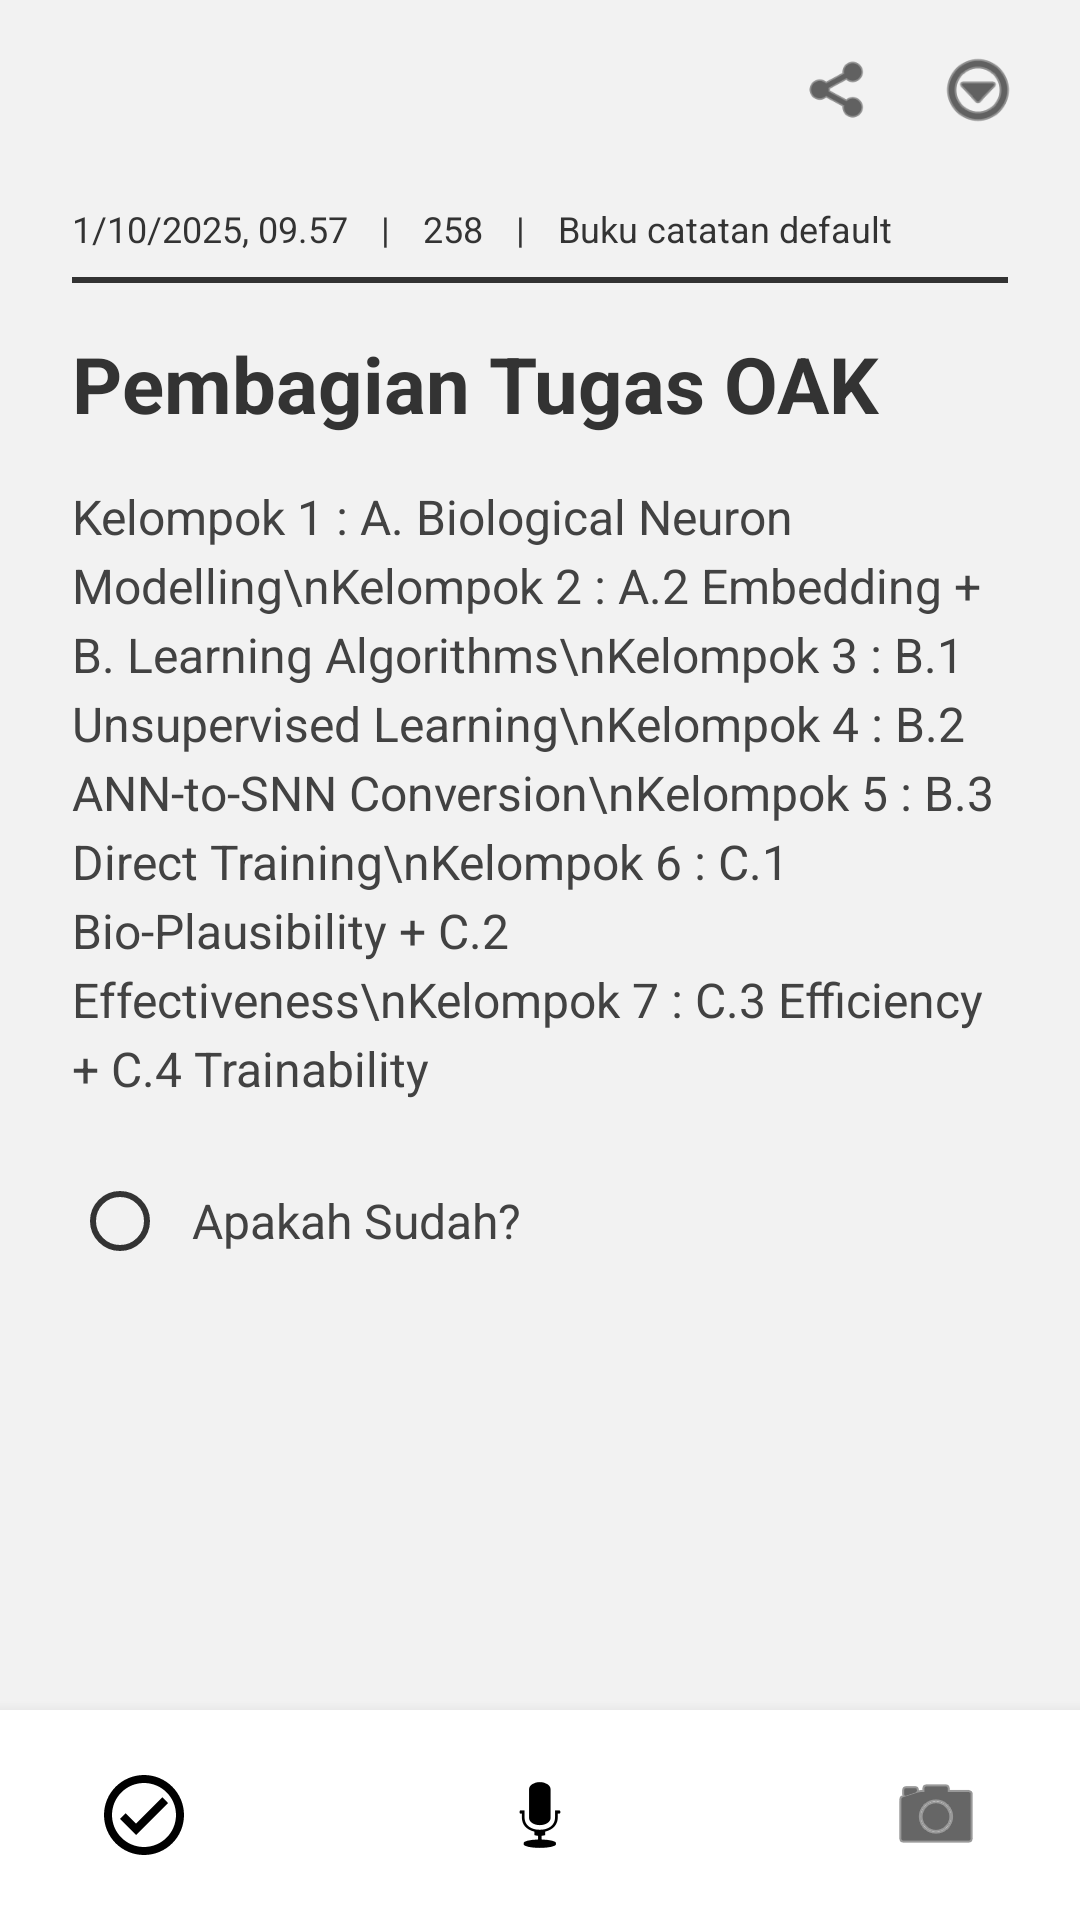

Icons on this 1080w x 1920h Android screen, each with the point to tap as (x=x, y=y):
camera: (x=936, y=1813)
check circle: (x=144, y=1815)
more: (x=978, y=90)
share: (x=836, y=89)
speak now: (x=540, y=1815)
